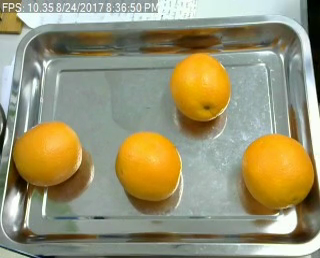Orange: (242, 132, 316, 209), (115, 132, 181, 201), (12, 121, 83, 185), (170, 52, 231, 120)
